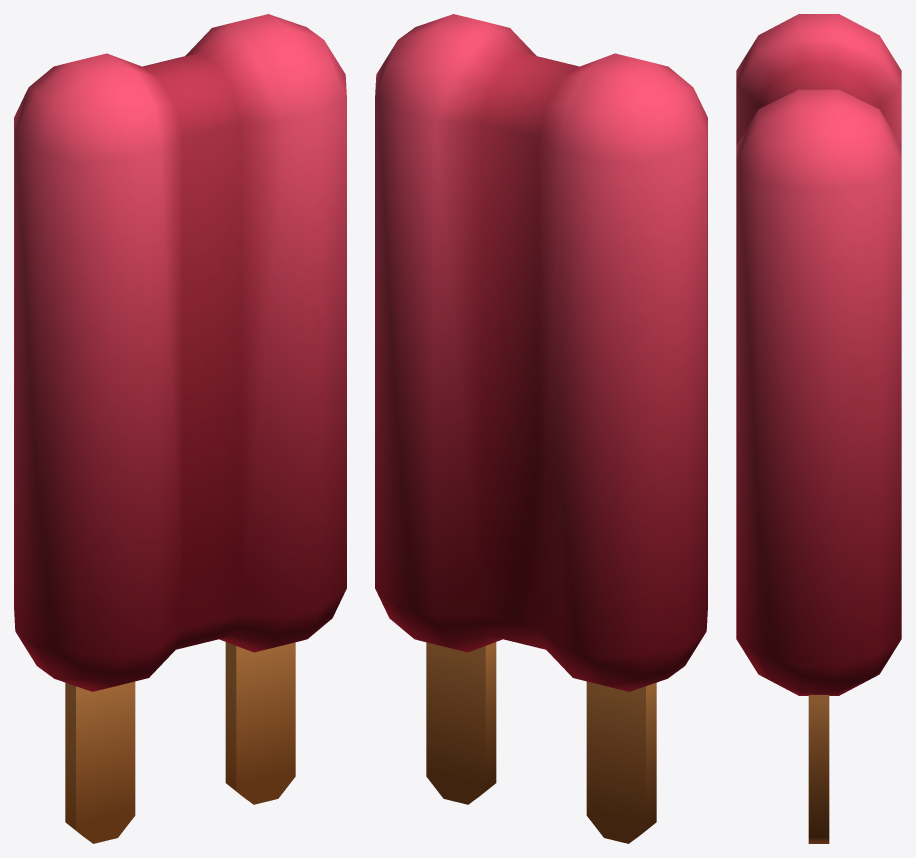
The model's file is m_DoublePopsicle07.fbx.
3 renders of one model, left to right at view 1: azimuth 30°, elevation 25°; view 2: azimuth 150°, elevation 25°; view 3: azimuth 270°, elevation 25°, orthographic. The views are drawn at different scales.
Visible parts, largest first — view 1: m_DoublePopsicle07_L, m_DoublePopsicle07_R; view 2: m_DoublePopsicle07_L, m_DoublePopsicle07_R; view 3: m_DoublePopsicle07_R, m_DoublePopsicle07_L.
Boxes of the visible parts, <box> form: m_DoublePopsicle07_L: <box>14,53,211,843</box>; m_DoublePopsicle07_R: <box>159,14,346,804</box>; m_DoublePopsicle07_L: <box>510,53,707,843</box>; m_DoublePopsicle07_R: <box>375,14,562,804</box>; m_DoublePopsicle07_R: <box>736,80,901,843</box>; m_DoublePopsicle07_L: <box>736,14,901,145</box>.
Size of the model in its own units: 9.64 by 22.99 by 4.64.
